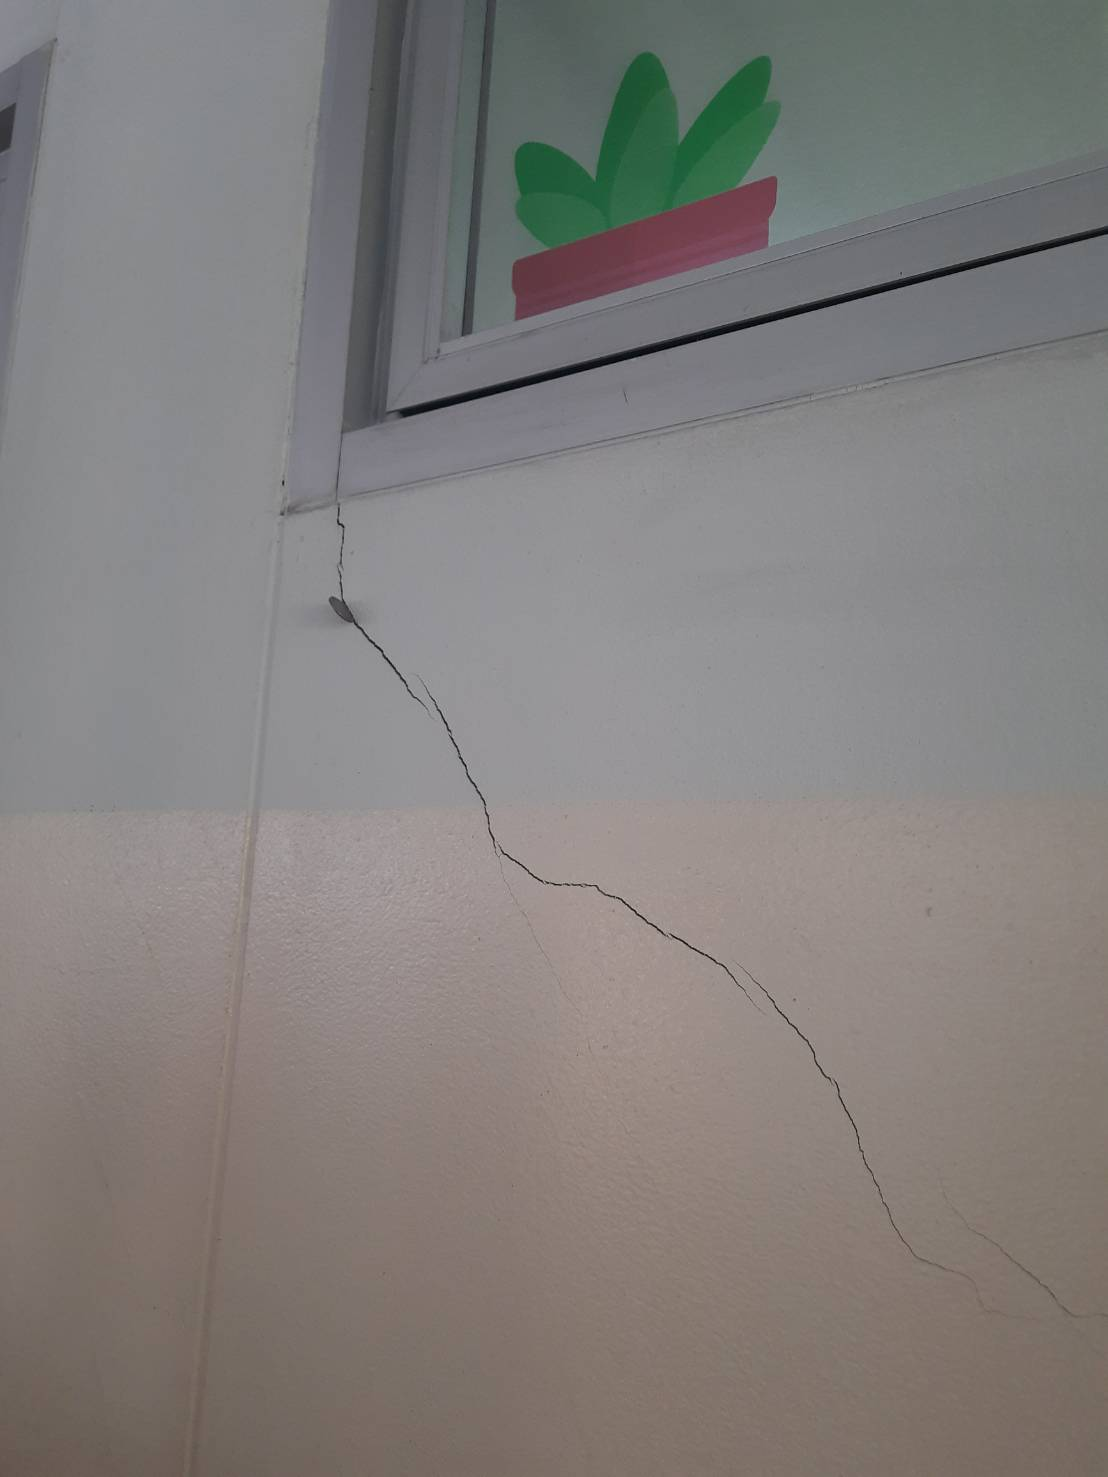Medium: (312, 567, 942, 1187)
